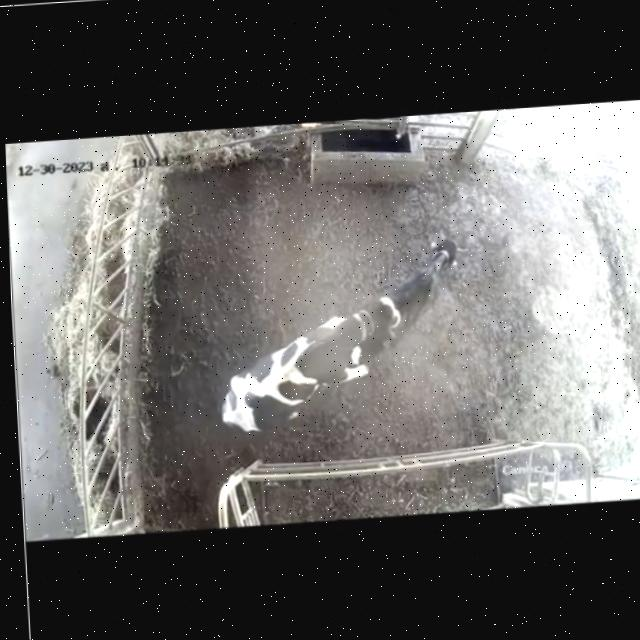ride: (192, 290, 429, 451)
stand: (351, 220, 486, 367)
